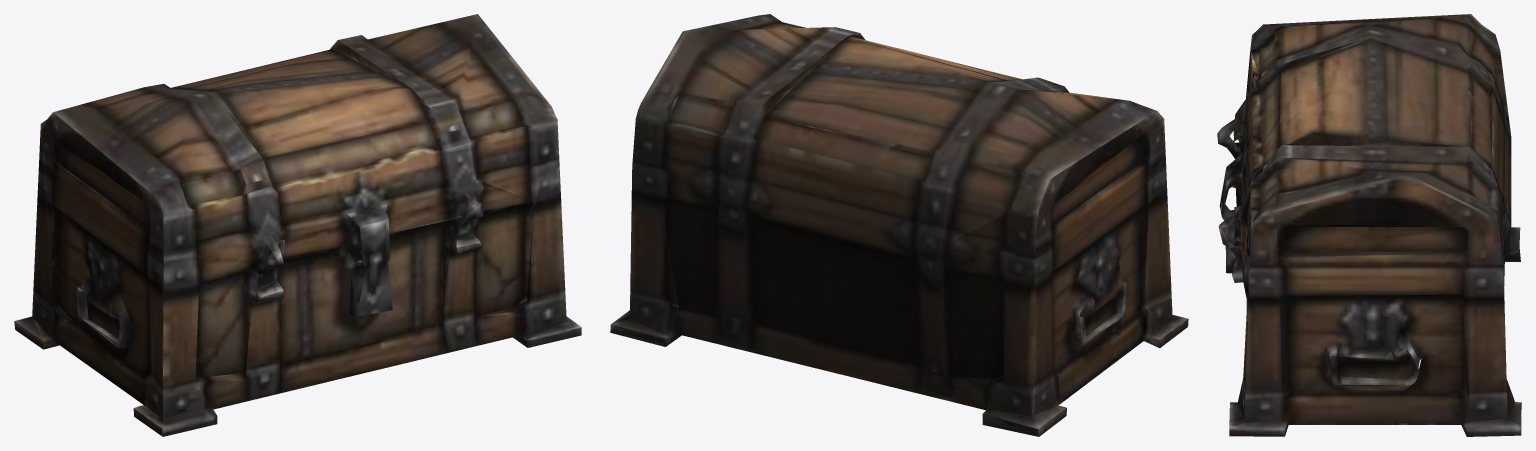
The model's file is obj_chest.glb.
The picture shows the model from 3 angles, left to right: view 1: azimuth 30°, elevation 25°; view 2: azimuth 150°, elevation 25°; view 3: azimuth 270°, elevation 25°; orthographic projection. The views are drawn at different scales.
Visible parts, largest first — view 1: Chest; view 2: Chest; view 3: Chest.
Part boxes in pixels (x1,y1,x2,y2): Chest: [14, 14, 581, 436]; Chest: [610, 14, 1188, 436]; Chest: [1217, 14, 1521, 436].
Bounding box in the file's own units: 2 × 1.19 × 1.28.
1 material, 1 textured.
